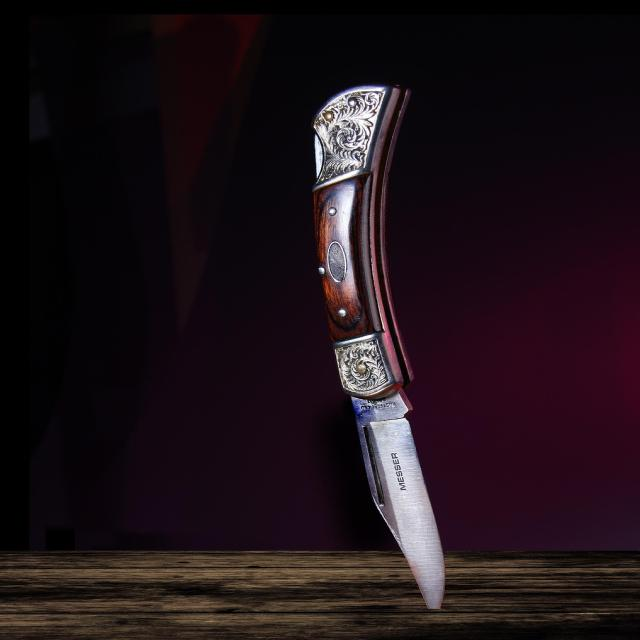Knife: (314, 86, 444, 608)
